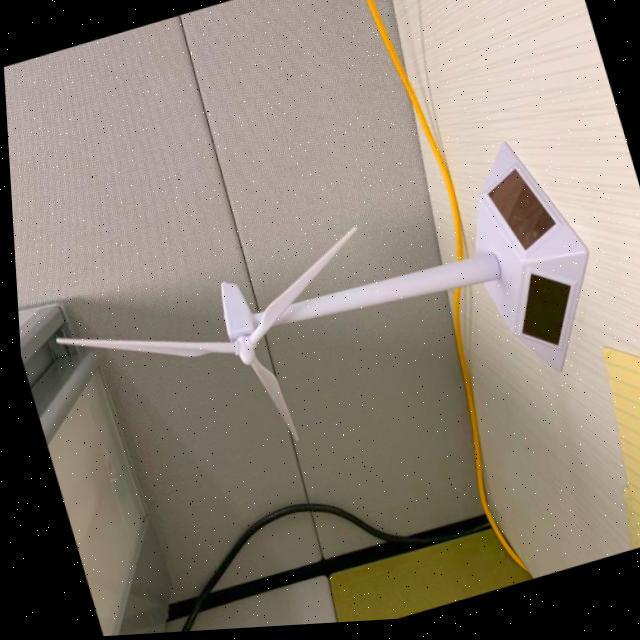solid-blade: (244, 229, 353, 348), (246, 359, 292, 442), (52, 338, 231, 357)
